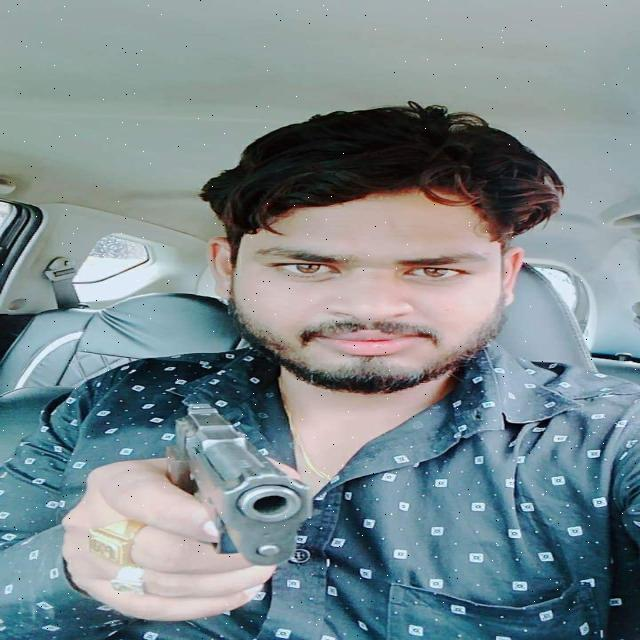gun: (81, 392, 338, 620)
